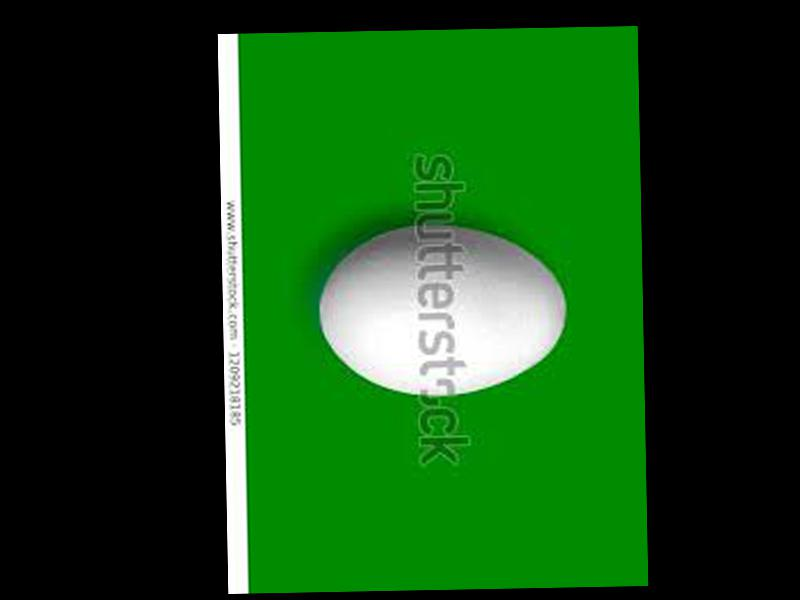Eggs: (319, 221, 567, 396)
